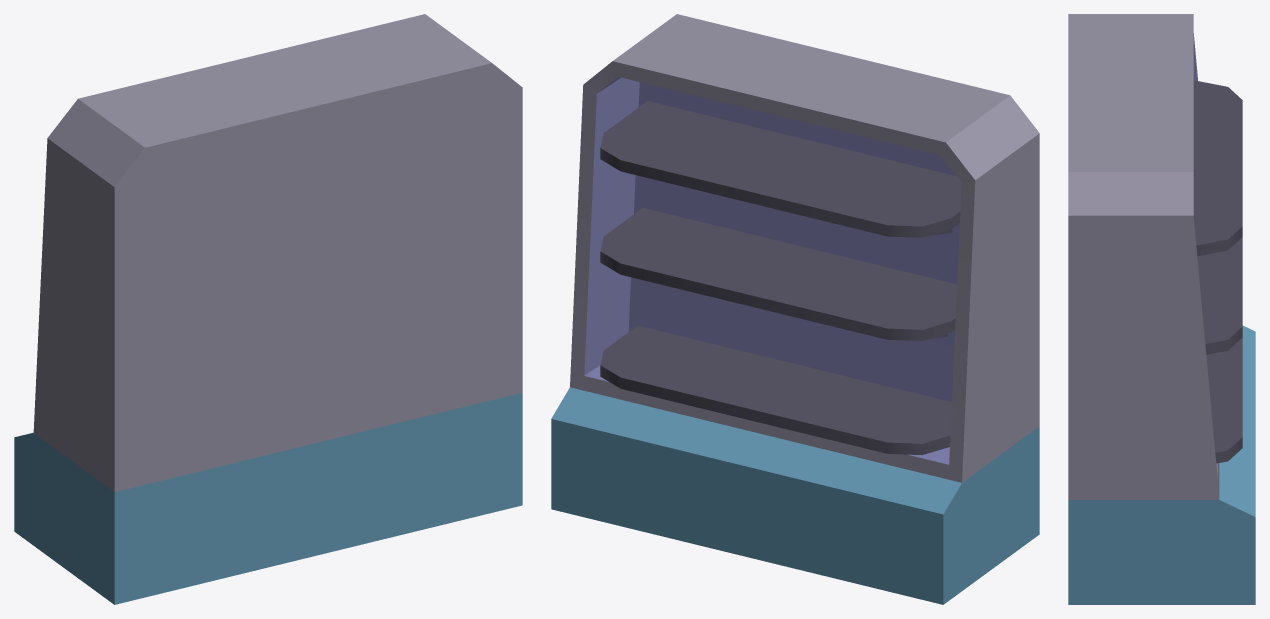
The model's file is Shelf3Cooled.fbx.
3 views of the same model, side by side, from view 1: azimuth 30°, elevation 25°; view 2: azimuth 150°, elevation 25°; view 3: azimuth 270°, elevation 25° (orthographic). The views are drawn at different scales.
Visible parts, largest first — view 1: Shelf3Cooled; view 2: Shelf3Cooled; view 3: Shelf3Cooled.
Boxes of the visible parts, <box> form: Shelf3Cooled: <box>14,14,522,604</box>; Shelf3Cooled: <box>551,14,1039,604</box>; Shelf3Cooled: <box>1068,14,1255,604</box>.
Size of the model in its own units: 200 by 211 by 85.17.
